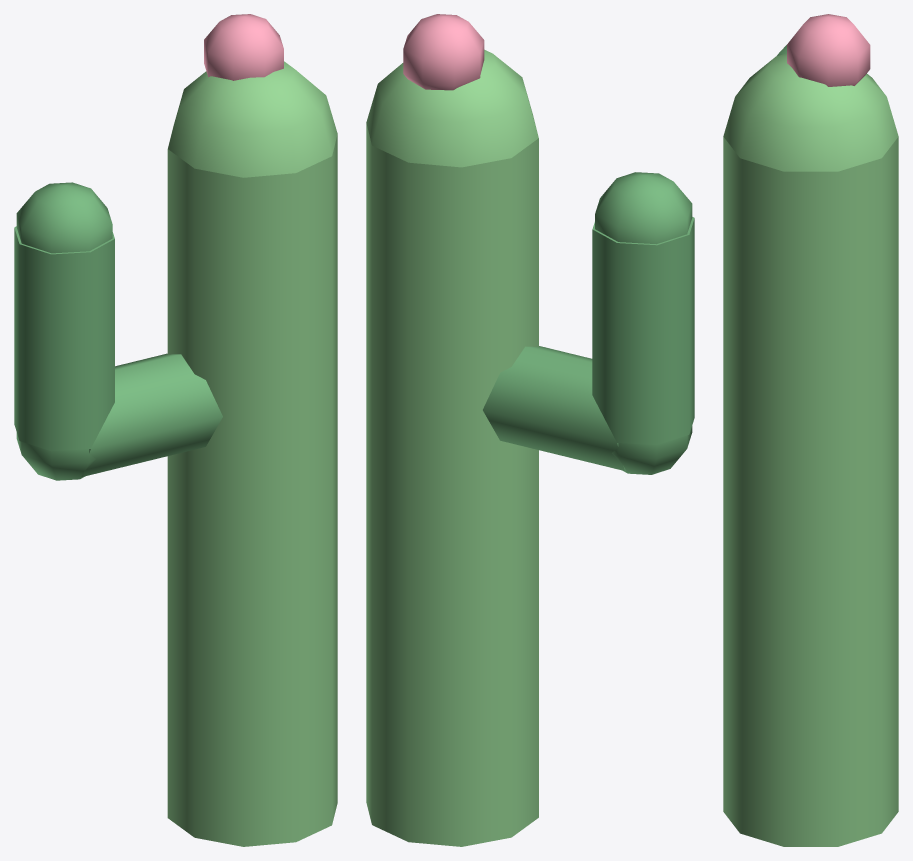
The model's file is Desert_Cactus2.fbx.
The picture shows the model from 3 angles, left to right: view 1: azimuth 30°, elevation 25°; view 2: azimuth 150°, elevation 25°; view 3: azimuth 270°, elevation 25°; orthographic projection.
Visible parts, largest first — view 1: Desert_Cactus2; view 2: Desert_Cactus2; view 3: Desert_Cactus2.
Part boxes in pixels (box(x1,y1,x2,y2)): Desert_Cactus2: box(14, 14, 337, 846); Desert_Cactus2: box(366, 14, 694, 846); Desert_Cactus2: box(723, 14, 898, 846).
Bounding box in the file's own units: 1.05 × 2.6 × 0.52.
